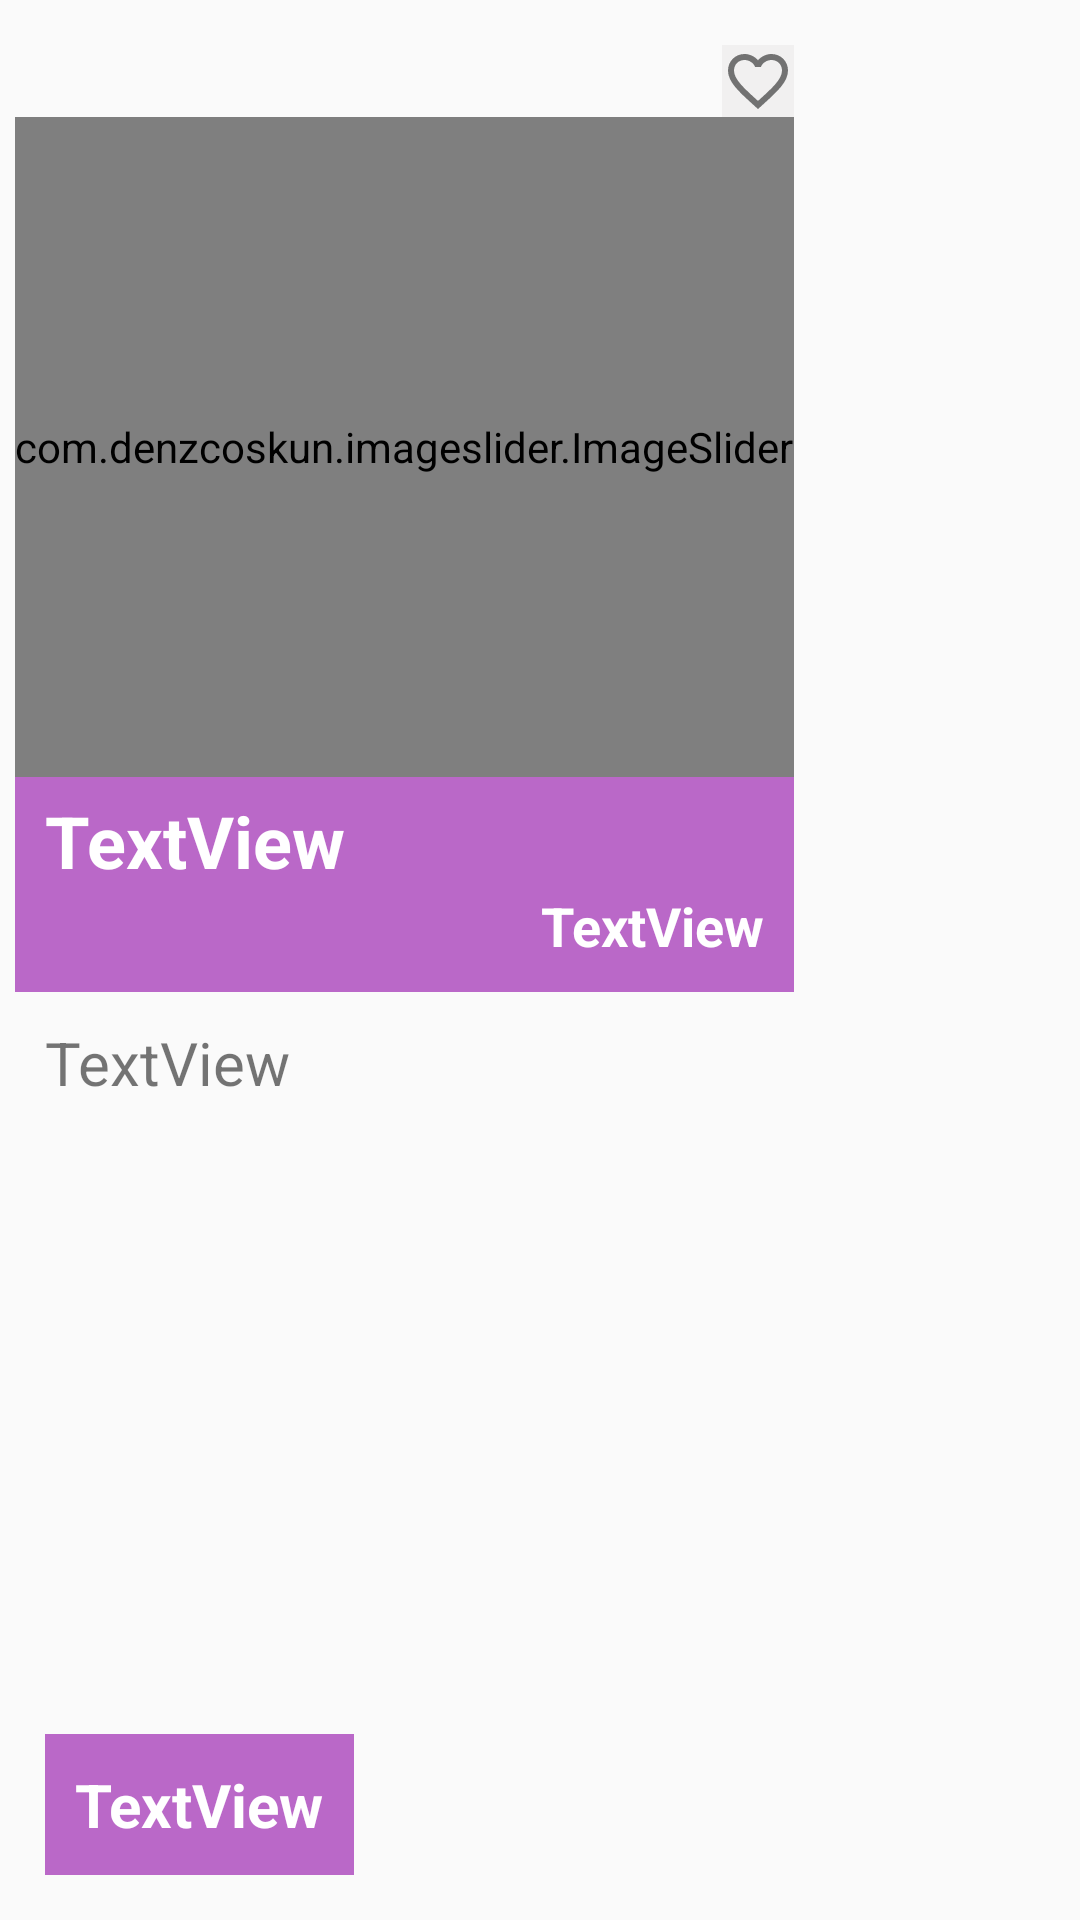

Icon bounding boxes for this 1080px x 1920px phone screenshot, format detection(x1, y1, x2, y2):
selektor wishlist item: detection(722, 45, 794, 117)
